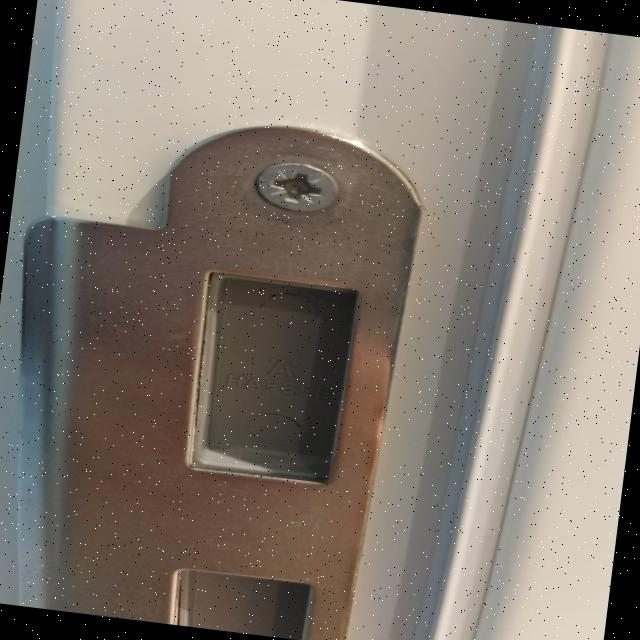Pozidriv: (238, 152, 352, 228)
